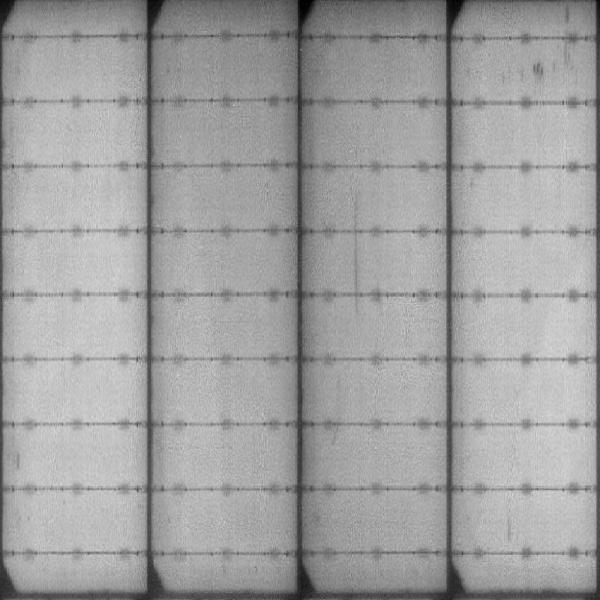scratch: (349, 201, 364, 314)
